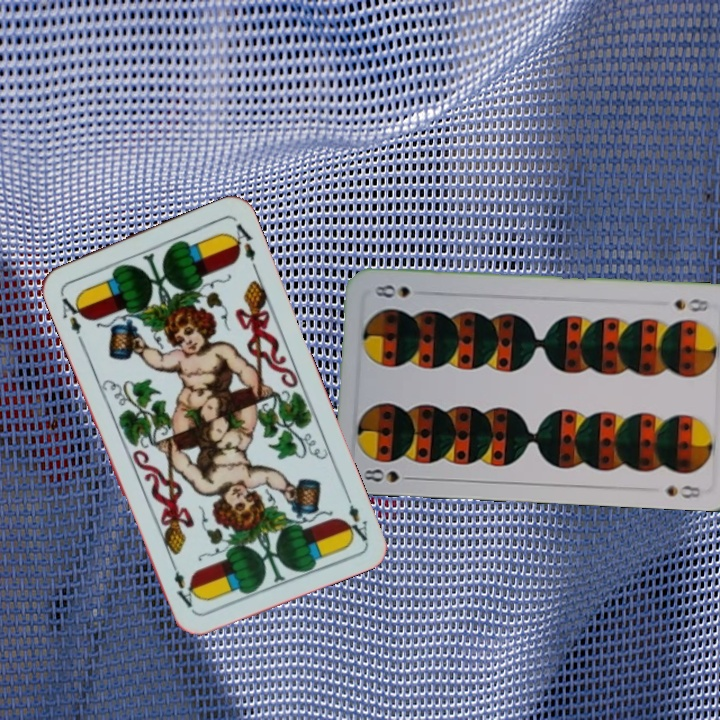EA: (340, 487, 371, 545), (57, 293, 89, 345)
S8: (359, 465, 418, 485), (671, 295, 712, 315)
